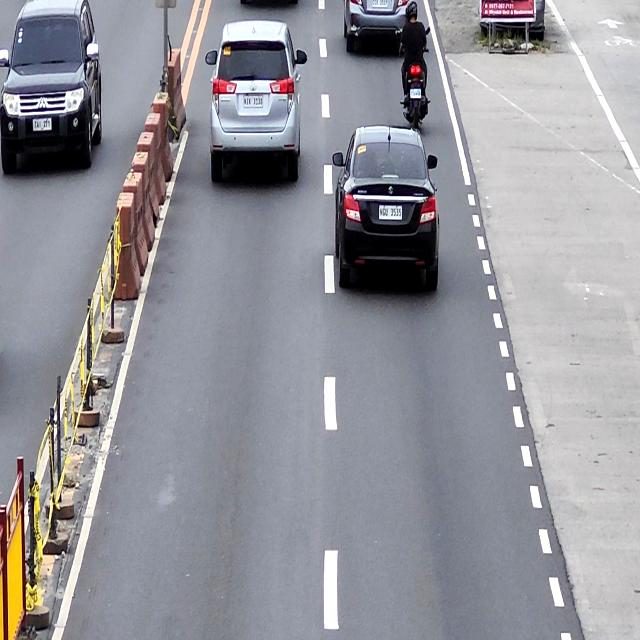Car: (335, 126, 439, 296), (206, 26, 294, 184)
License-Plate: (377, 204, 403, 223), (242, 93, 265, 109), (409, 86, 425, 99)
Motorcycle: (402, 5, 428, 130)
